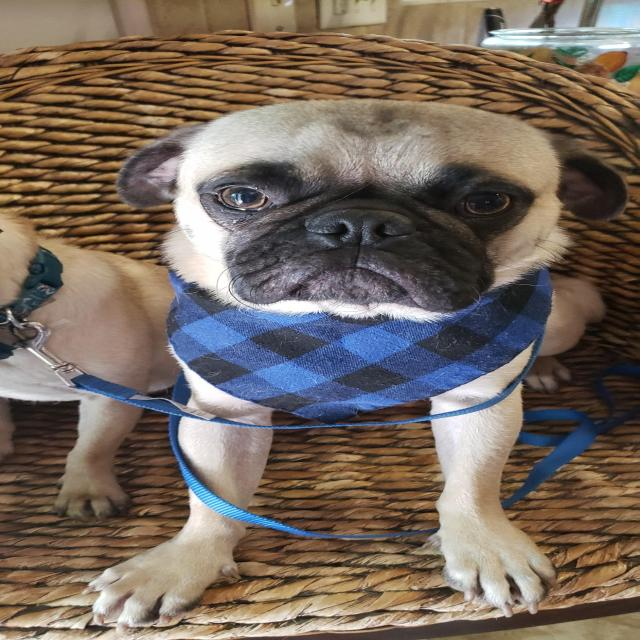pug_dog: (108, 89, 631, 335)
